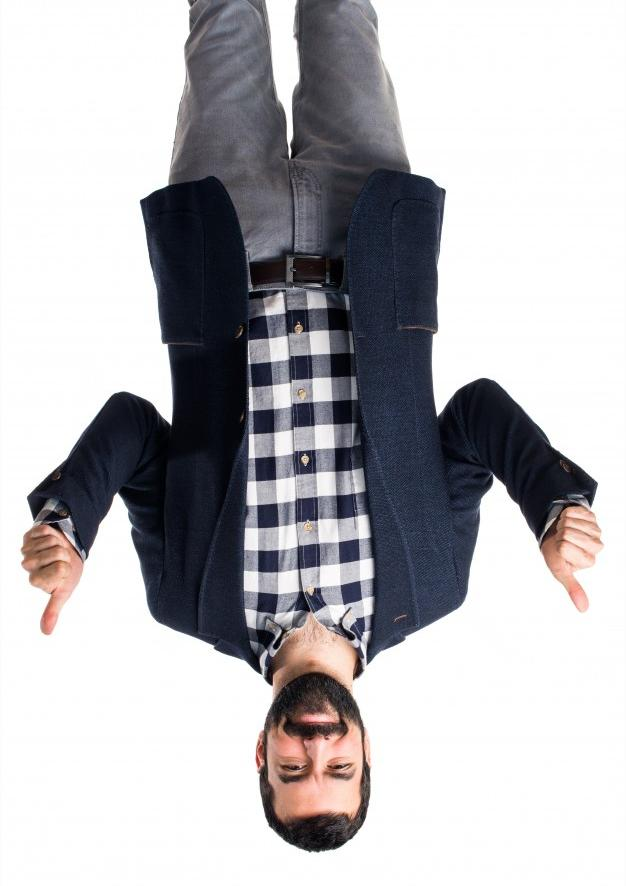thumbsdown: (21, 525, 71, 636), (553, 507, 603, 613)
